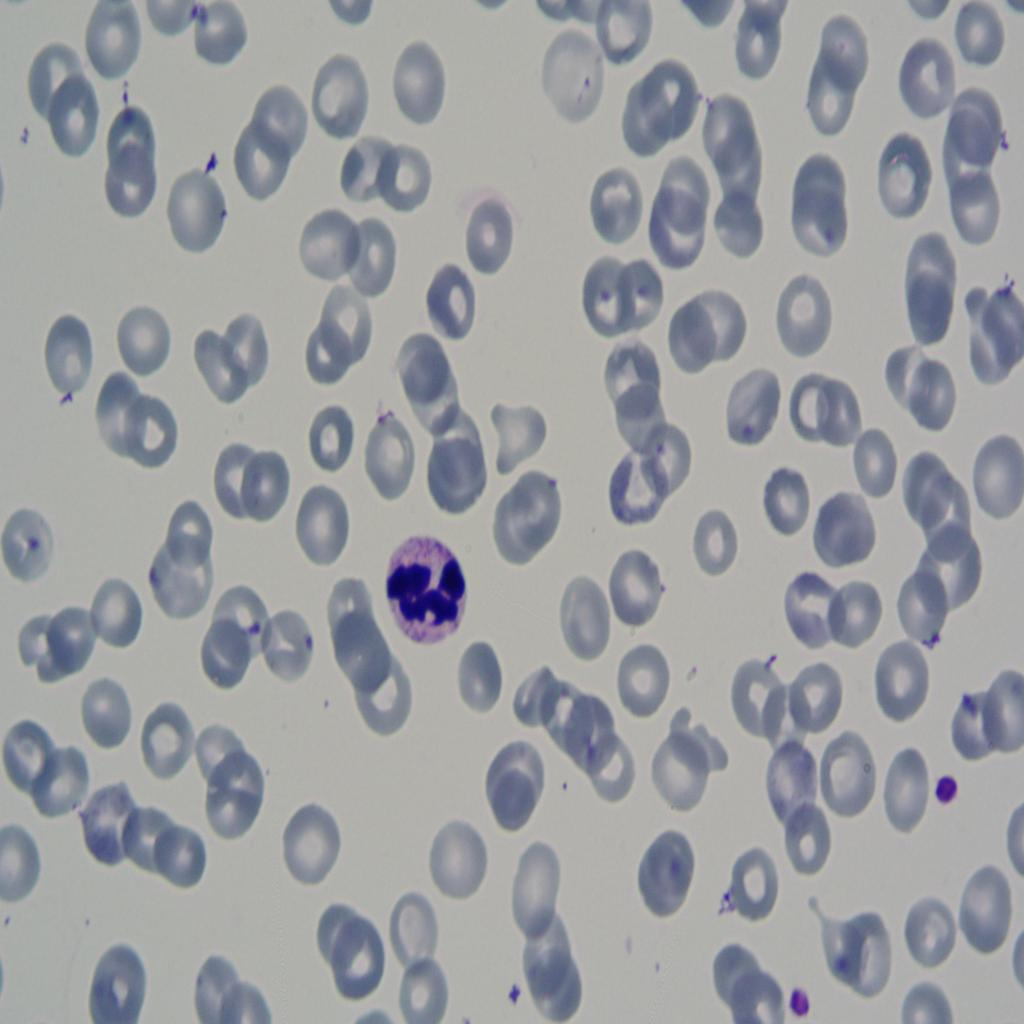Neutrofil: (376, 516, 477, 664)
Platelet: (784, 966, 829, 1024), (193, 144, 229, 196), (491, 966, 532, 1010), (928, 764, 957, 812), (22, 524, 48, 566)
